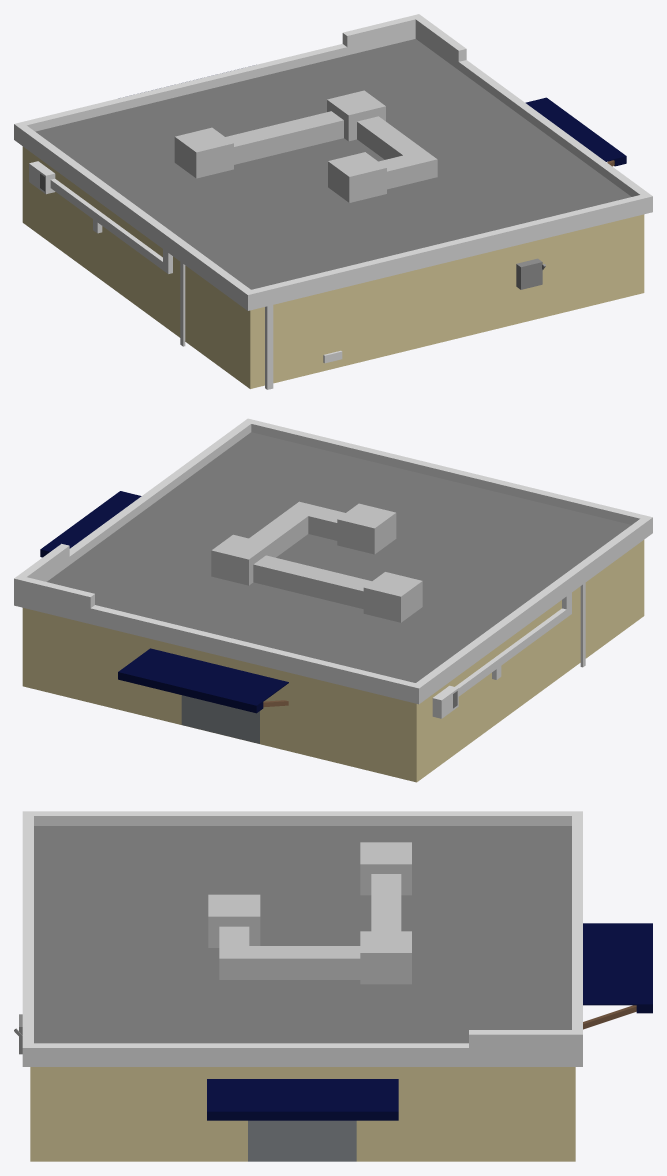
The picture shows the model from 3 angles, top to bottom: view 1: azimuth 30°, elevation 25°; view 2: azimuth 150°, elevation 25°; view 3: azimuth 270°, elevation 25°; orthographic projection. The views are drawn at different scales.
Visible parts, largest first — view 1: Cube, Cube.010, Cube.001, Plane, Cube.007, Cube.004, Cube.002, Cube.005, Cube.006; view 2: Cube, Cube.010, Cube.001, Plane.001, Cube.008, Cube.007, Plane, Cube.006; view 3: Cube, Cube.010, Cube.001, Plane, Plane.001, Cube.009.
Boxes of the visible parts, left/top/right/bottom form: Cube: left=22, top=39, right=644, bottom=388; Cube.010: left=14, top=14, right=652, bottom=310; Cube.001: left=174, top=90, right=437, bottom=202; Plane: left=525, top=97, right=626, bottom=166; Cube.007: left=50, top=178, right=172, bottom=273; Cube.004: left=265, top=305, right=273, bottom=389; Cube.002: left=516, top=258, right=542, bottom=289; Cube.005: left=180, top=262, right=342, bottom=363; Cube.006: left=29, top=161, right=55, bottom=194; Cube: left=22, top=432, right=644, bottom=782; Cube.010: left=14, top=418, right=652, bottom=704; Cube.001: left=211, top=501, right=422, bottom=622; Plane.001: left=118, top=648, right=288, bottom=713; Cube.008: left=181, top=695, right=259, bottom=743; Cube.007: left=455, top=593, right=571, bottom=696; Plane: left=40, top=491, right=141, bottom=557; Cube.006: left=432, top=685, right=458, bottom=718; Cube: left=30, top=826, right=575, bottom=1161; Cube.010: left=22, top=811, right=582, bottom=1066; Cube.001: left=208, top=842, right=411, bottom=984; Plane: left=207, top=1079, right=398, bottom=1120; Plane.001: left=583, top=923, right=652, bottom=1029; Cube.009: left=248, top=1120, right=356, bottom=1161.
Size of the model in its own units: 233 by 57.12 by 234.
